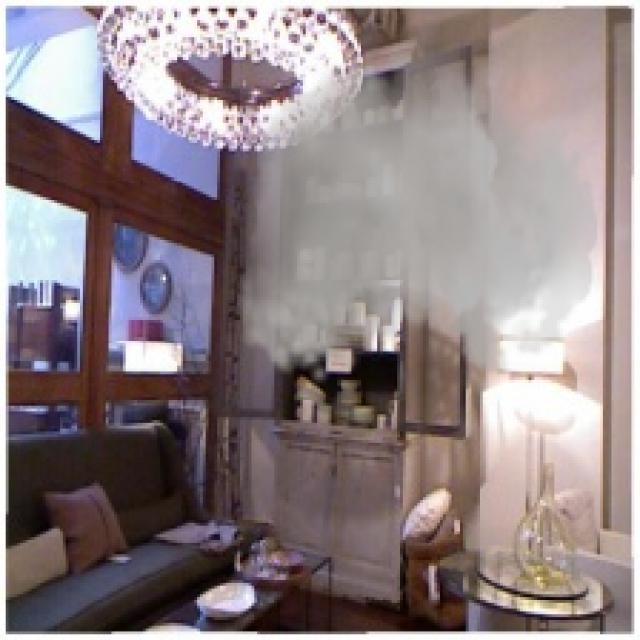smoke: (237, 14, 597, 386)
